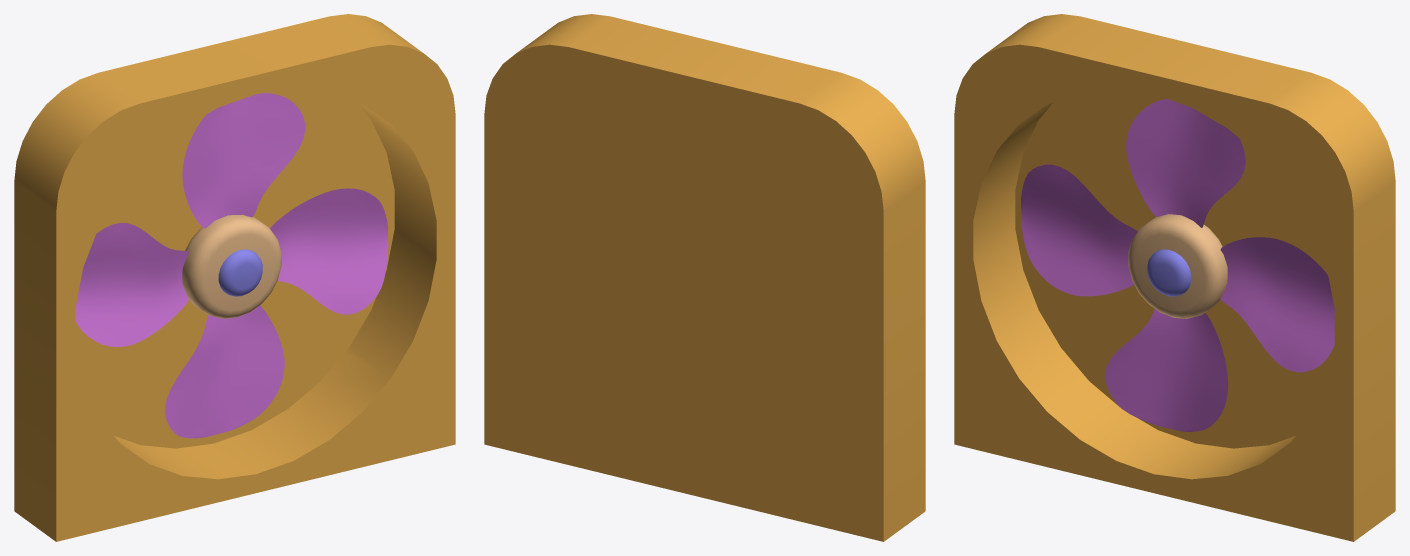
File: Fan2.fbx
3 renders of one model, left to right at view 1: azimuth 30°, elevation 25°; view 2: azimuth 150°, elevation 25°; view 3: azimuth 330°, elevation 25°, orthographic.
Visible parts, largest first — view 1: Fan.001, FanRound.001; view 2: Fan.001; view 3: Fan.001, FanRound.001.
Boxes of the visible parts, box(x1,y1,x2,y2) form: Fan.001: box(14, 14, 455, 541); FanRound.001: box(75, 92, 388, 438); Fan.001: box(484, 14, 925, 541); Fan.001: box(954, 14, 1395, 541); FanRound.001: box(1021, 98, 1334, 431).
Bounding box in the file's own units: 440 × 440 × 80.
